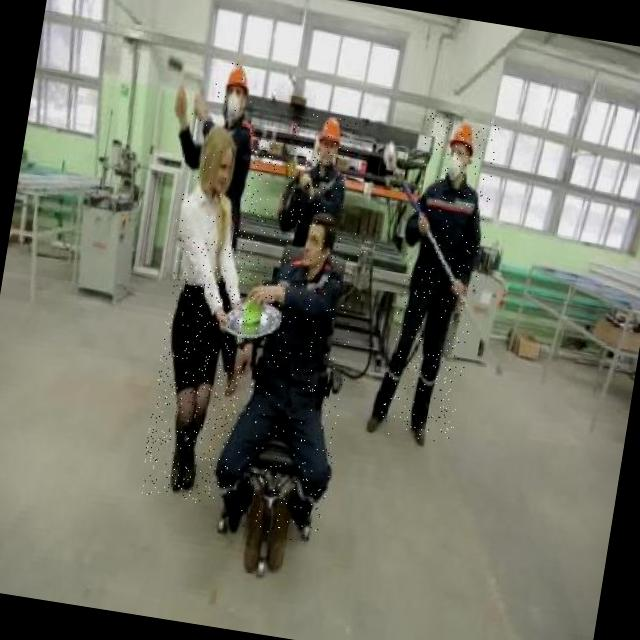boots: (400, 367, 456, 453), (357, 364, 414, 444)
helmet: (444, 120, 478, 158), (224, 63, 254, 95), (315, 115, 344, 148)
no-helmet: (273, 197, 360, 282), (181, 112, 258, 206)
no-vest: (152, 178, 274, 354), (394, 172, 508, 331), (250, 255, 356, 419)
